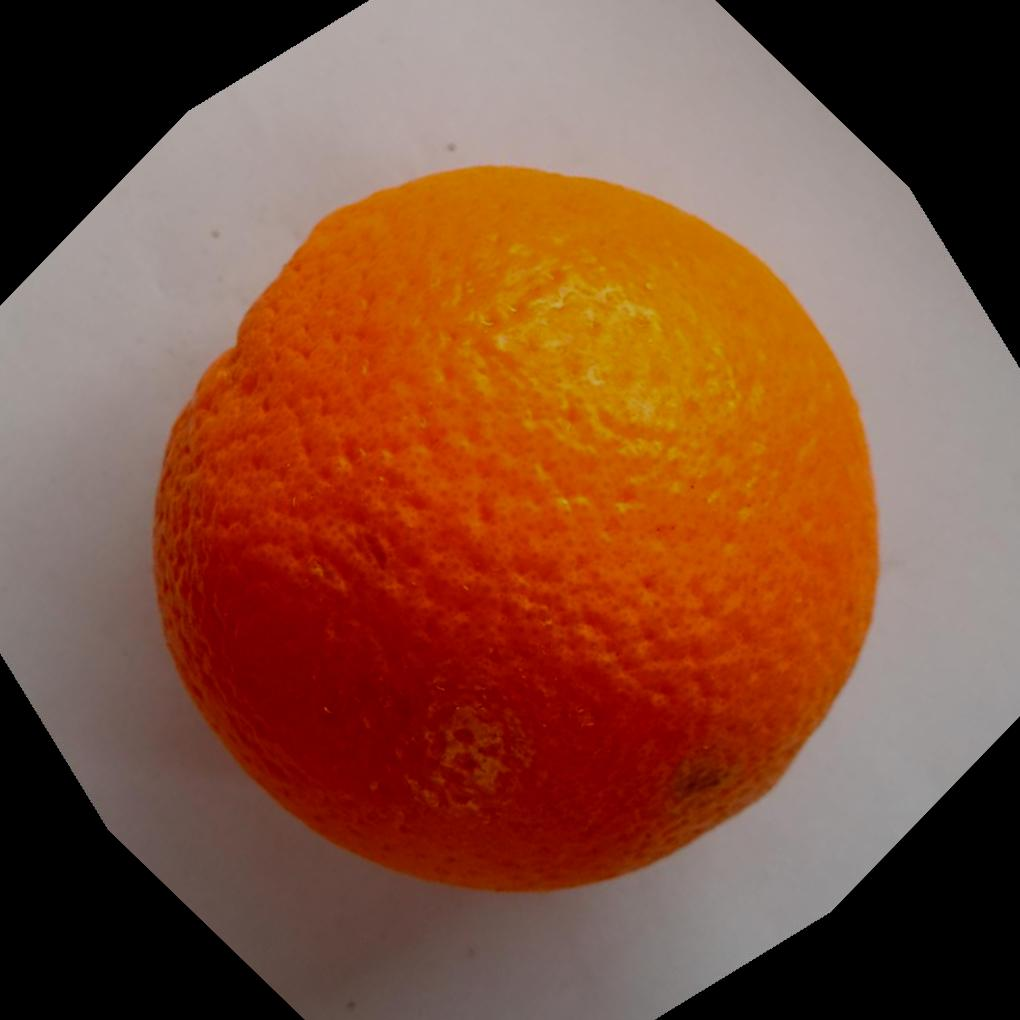FreshGuava: (151, 158, 885, 893)
